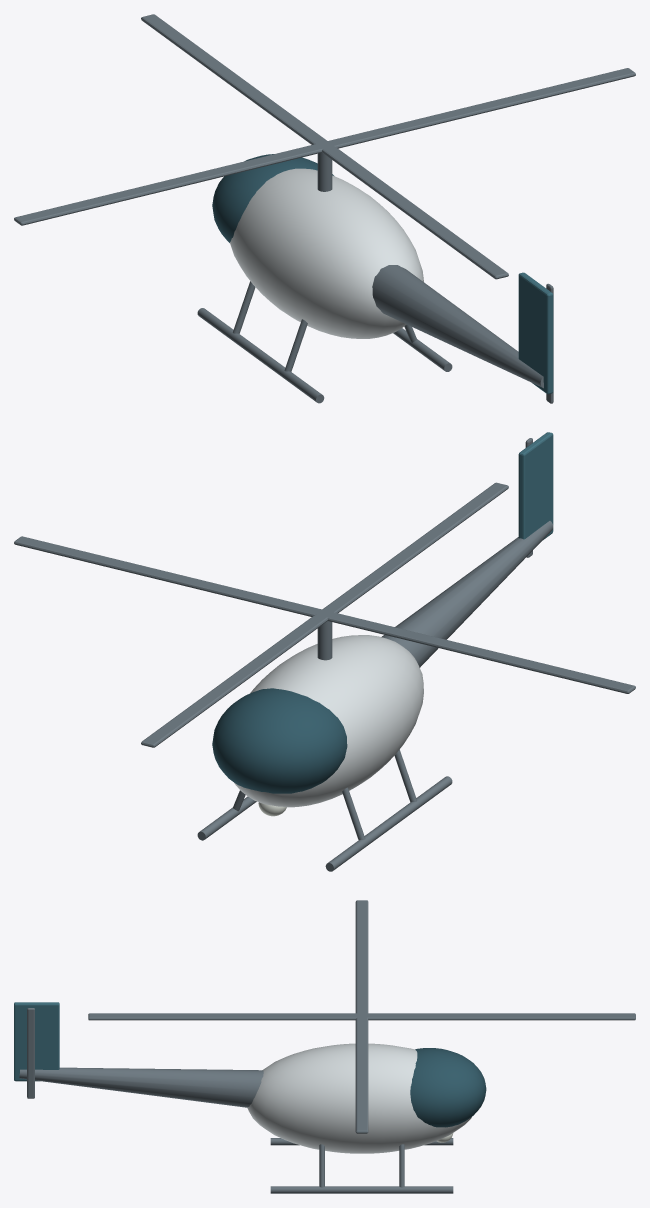
The model's file is Watch_PoliceHeli.fbx.
3 renders of one model, top to bottom at view 1: azimuth 30°, elevation 25°; view 2: azimuth 150°, elevation 25°; view 3: azimuth 270°, elevation 25°, orthographic. The views are drawn at different scales.
Parts seen in each view (by area): view 1: Body.013, Rotor_Main.001; view 2: Body.013, Rotor_Main.001; view 3: Body.013, Rotor_Main.001, Rotor_Tail.001.
Part boxes in pixels (bbox=[...]): Body.013: bbox=[197, 152, 553, 403]; Rotor_Main.001: bbox=[14, 14, 635, 279]; Body.013: bbox=[197, 432, 553, 871]; Rotor_Main.001: bbox=[14, 482, 635, 747]; Body.013: bbox=[14, 1002, 486, 1193]; Rotor_Main.001: bbox=[88, 900, 635, 1133]; Rotor_Tail.001: bbox=[27, 1008, 34, 1098].
Size of the model in its own units: 9.6 by 3.22 by 10.9.
